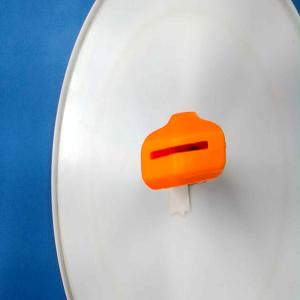estilete: (140, 111, 226, 216)
